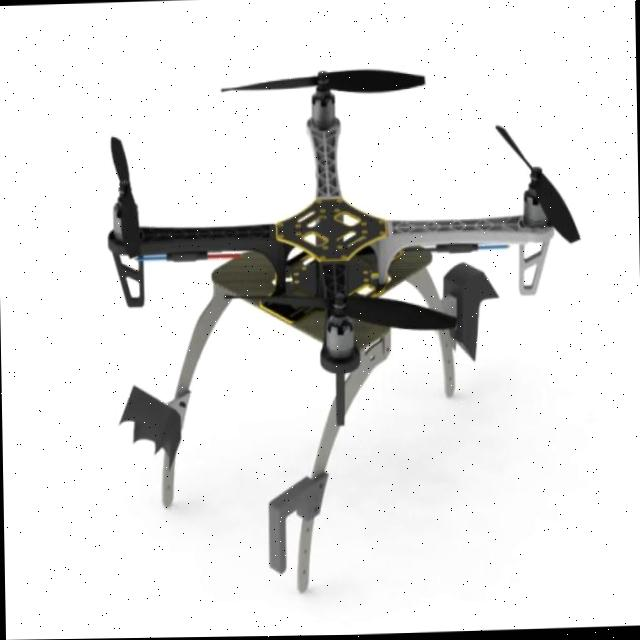drone: (84, 63, 586, 402)
